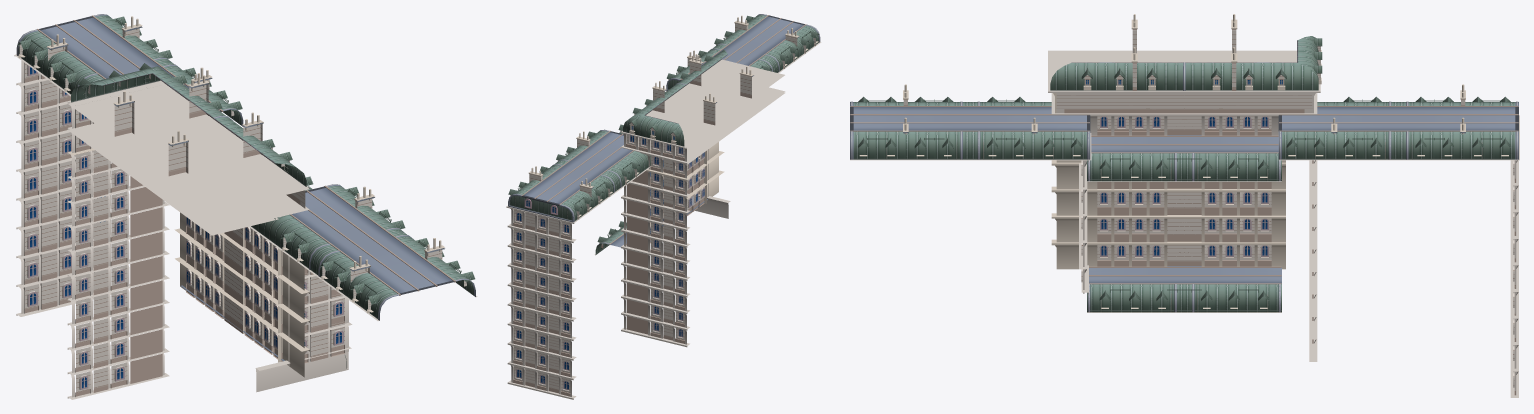
File: Rooftop_Chunk_04_Drop.FBX
The picture shows the model from 3 angles, left to right: view 1: azimuth 30°, elevation 25°; view 2: azimuth 150°, elevation 25°; view 3: azimuth 270°, elevation 25°; orthographic projection. The views are drawn at different scales.
Parts seen in each view (by area): view 1: Rooftop_Chunk_03, Rooftop_Chunk_03_Wall_Front01, Drop_Death_Wall_Front, Rooftop_Chunk_03_Road; view 2: Rooftop_Chunk_03_Wall_Front01, Rooftop_Chunk_03, Rooftop_Chunk_03_Road, Drop_Death_Wall_Front, Drop_Ramp001; view 3: Rooftop_Chunk_03, Drop_Death_Wall_Front, Rooftop_Chunk_03_Road, Drop_Ramp001, Drop_Ramp, Rooftop_Chunk_03_WallRun, Rooftop_Chunk_03_Wall_Front01, Drop_Ramp_Road_001, Drop_Ramp_Road.
Boxes of the visible parts, x1,y1,x2,y2 form: Rooftop_Chunk_03: (14, 14, 477, 320); Rooftop_Chunk_03_Wall_Front01: (16, 60, 169, 399); Drop_Death_Wall_Front: (174, 212, 352, 392); Rooftop_Chunk_03_Road: (37, 15, 455, 295); Rooftop_Chunk_03_Wall_Front01: (507, 171, 690, 399); Rooftop_Chunk_03: (506, 14, 821, 223); Rooftop_Chunk_03_Road: (521, 15, 806, 205); Drop_Death_Wall_Front: (649, 142, 730, 243); Drop_Ramp001: (594, 221, 626, 255); Rooftop_Chunk_03: (850, 14, 1519, 160); Drop_Death_Wall_Front: (1051, 160, 1285, 295); Rooftop_Chunk_03_Road: (850, 106, 1518, 131); Drop_Ramp001: (1087, 284, 1281, 312); Drop_Ramp: (1087, 153, 1281, 181); Rooftop_Chunk_03_WallRun: (1056, 93, 1312, 113); Rooftop_Chunk_03_Wall_Front01: (1309, 160, 1518, 397); Drop_Ramp_Road_001: (1089, 266, 1281, 284); Drop_Ramp_Road: (1091, 135, 1278, 153).
Bounding box in the file's own units: 113 × 238 × 451.
